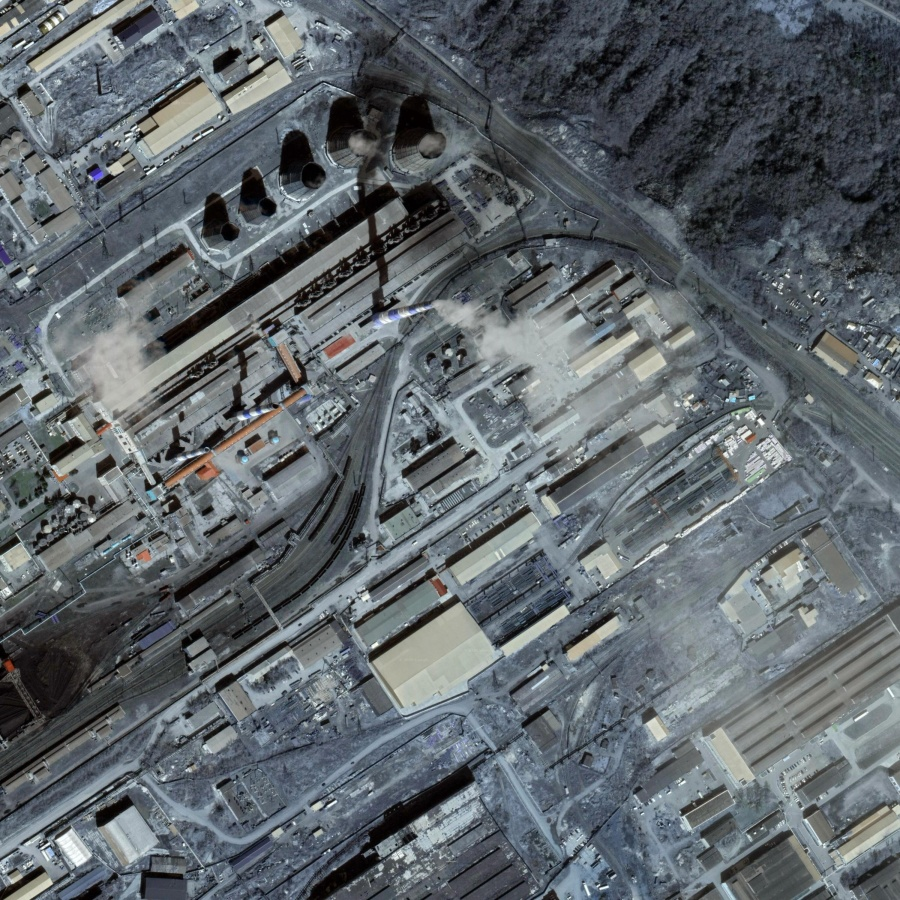PowerPlant: (103, 73, 550, 443)
